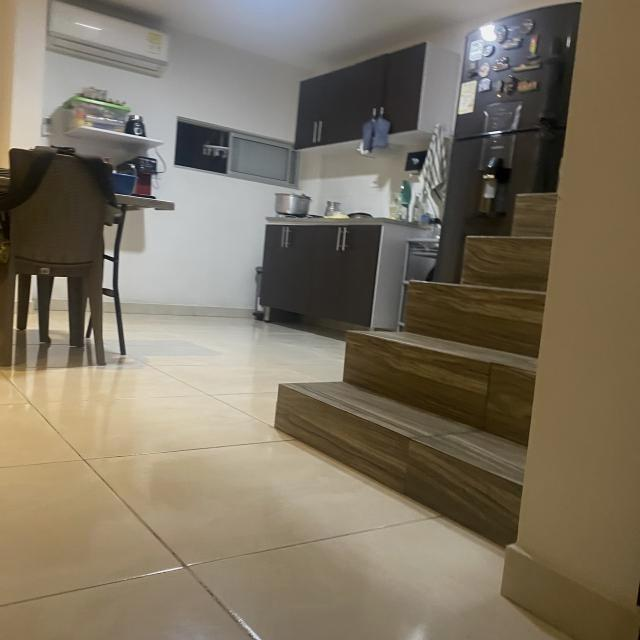obstacle: (0, 156, 180, 396), (234, 198, 427, 344)
stair: (250, 172, 588, 541)
